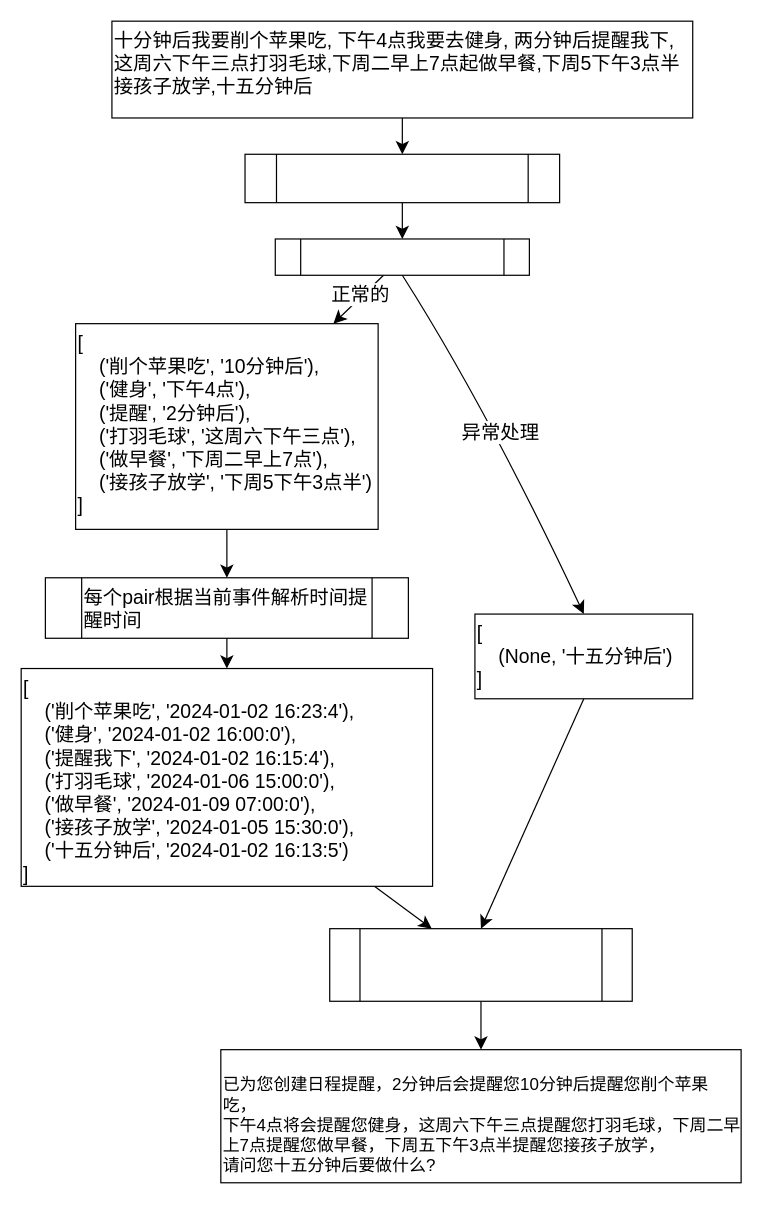
Image size: 762x1215. Some labels were removed from this diagram. Each missing label, with the box of its shape:
react -> 创建日程: (244, 153, 560, 203)
提取事件-时间 pair: (274, 238, 529, 275)
组装聊天返回结果,根据上个结果对任务排序: (329, 927, 632, 1001)
